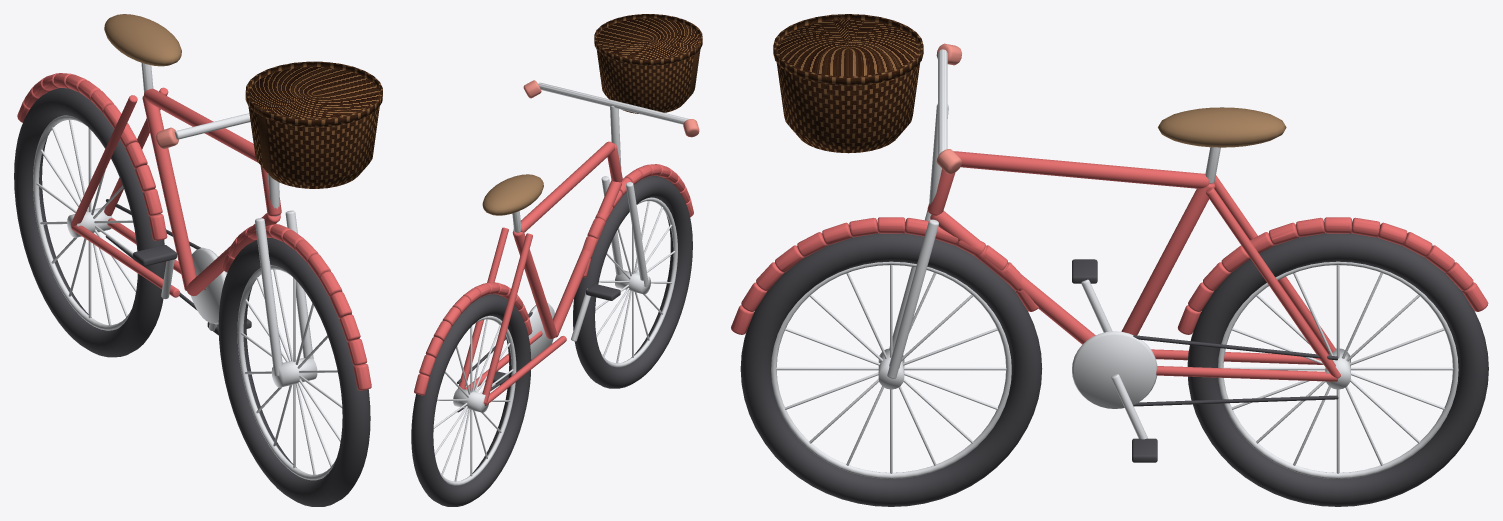
File: bike_red.glb
The picture shows the model from 3 angles, left to right: view 1: azimuth 30°, elevation 25°; view 2: azimuth 150°, elevation 25°; view 3: azimuth 270°, elevation 25°; orthographic projection. The views are drawn at different scales.
Parts seen in each view (by area): view 1: bike_red; view 2: bike_red; view 3: bike_red.
Part boxes in pixels (box(x1,y1,x2,y2)): bike_red: box(14, 14, 382, 506); bike_red: box(411, 14, 702, 506); bike_red: box(731, 14, 1488, 506).
Size of the model in its own units: 0.6495 by 1.18 by 1.76.
6 materials, 1 textured.
